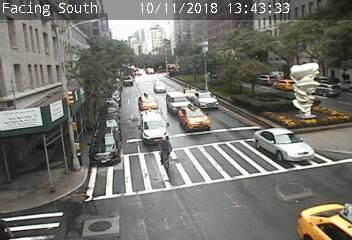car: (255, 128, 316, 164), (89, 128, 120, 164), (139, 110, 169, 145), (178, 107, 211, 131), (166, 92, 192, 116), (193, 90, 219, 110), (309, 83, 341, 98), (138, 95, 158, 112), (273, 79, 299, 92), (253, 74, 279, 85), (182, 88, 199, 101), (153, 82, 166, 93)
